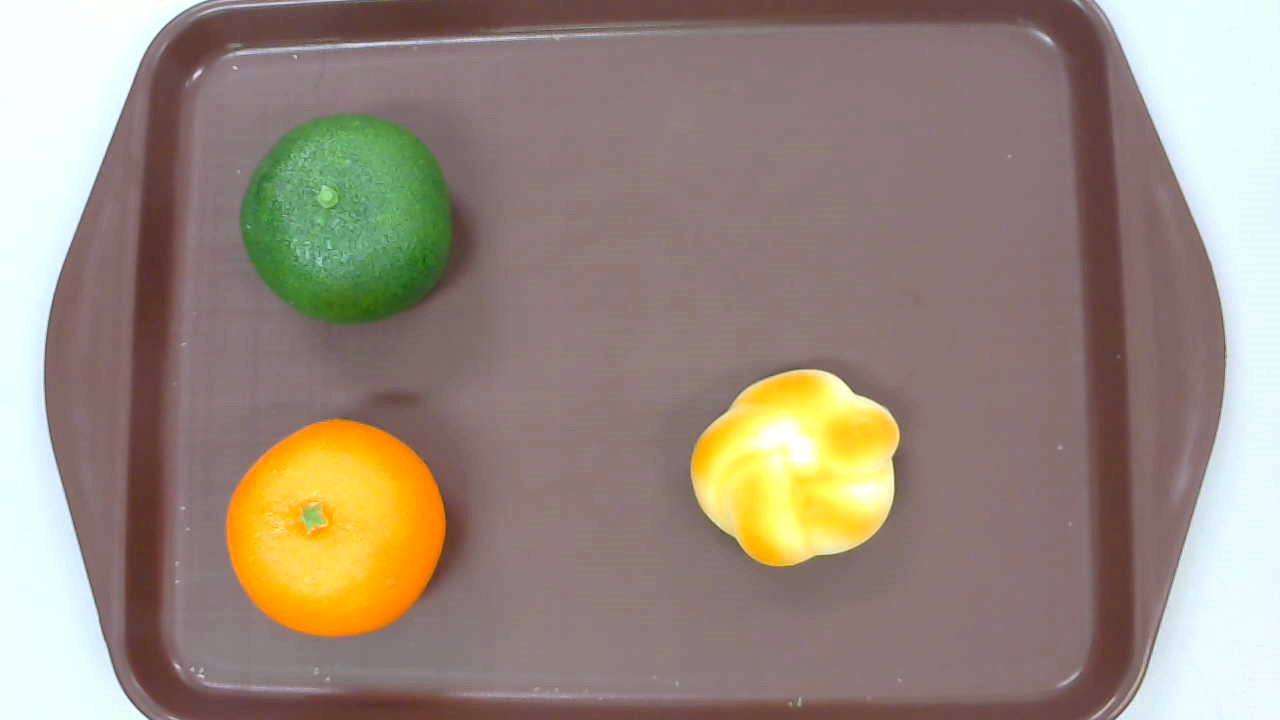green orange: (240, 115, 453, 324)
orange: (226, 417, 445, 635)
twist bread: (688, 369, 900, 567)
